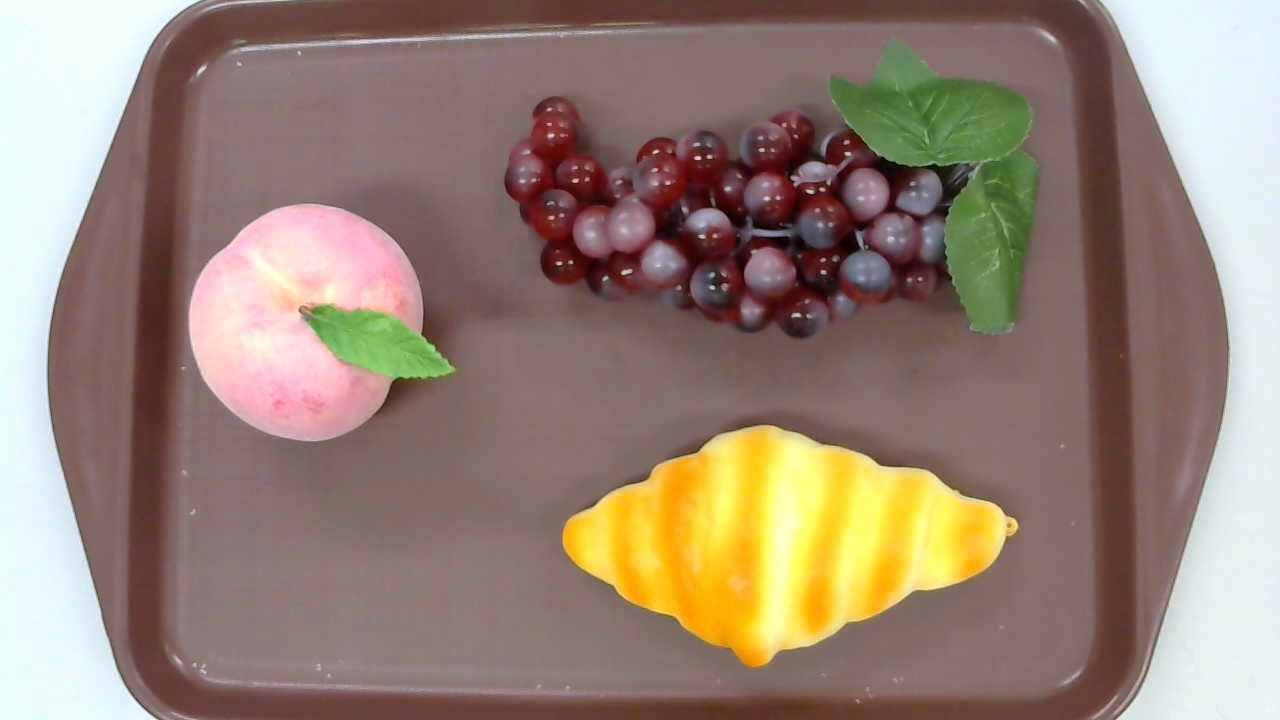croissant: (562, 424, 1019, 667)
grape: (502, 34, 1043, 341)
peach: (189, 204, 456, 441)
